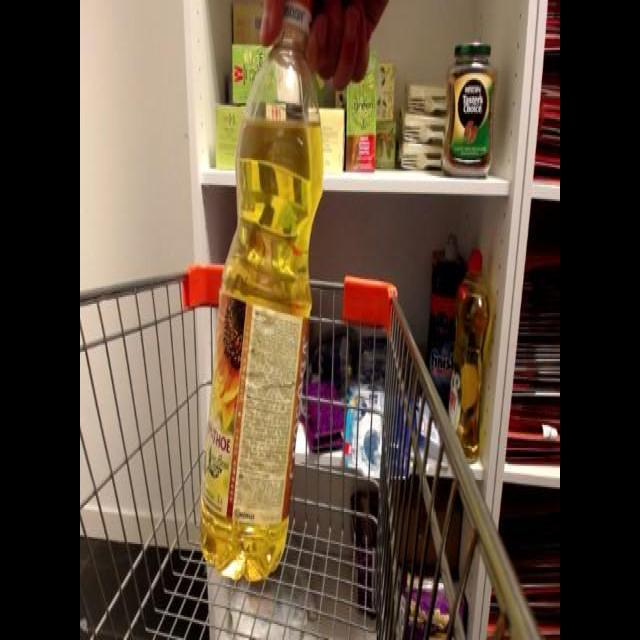Oil: (197, 1, 329, 589)
